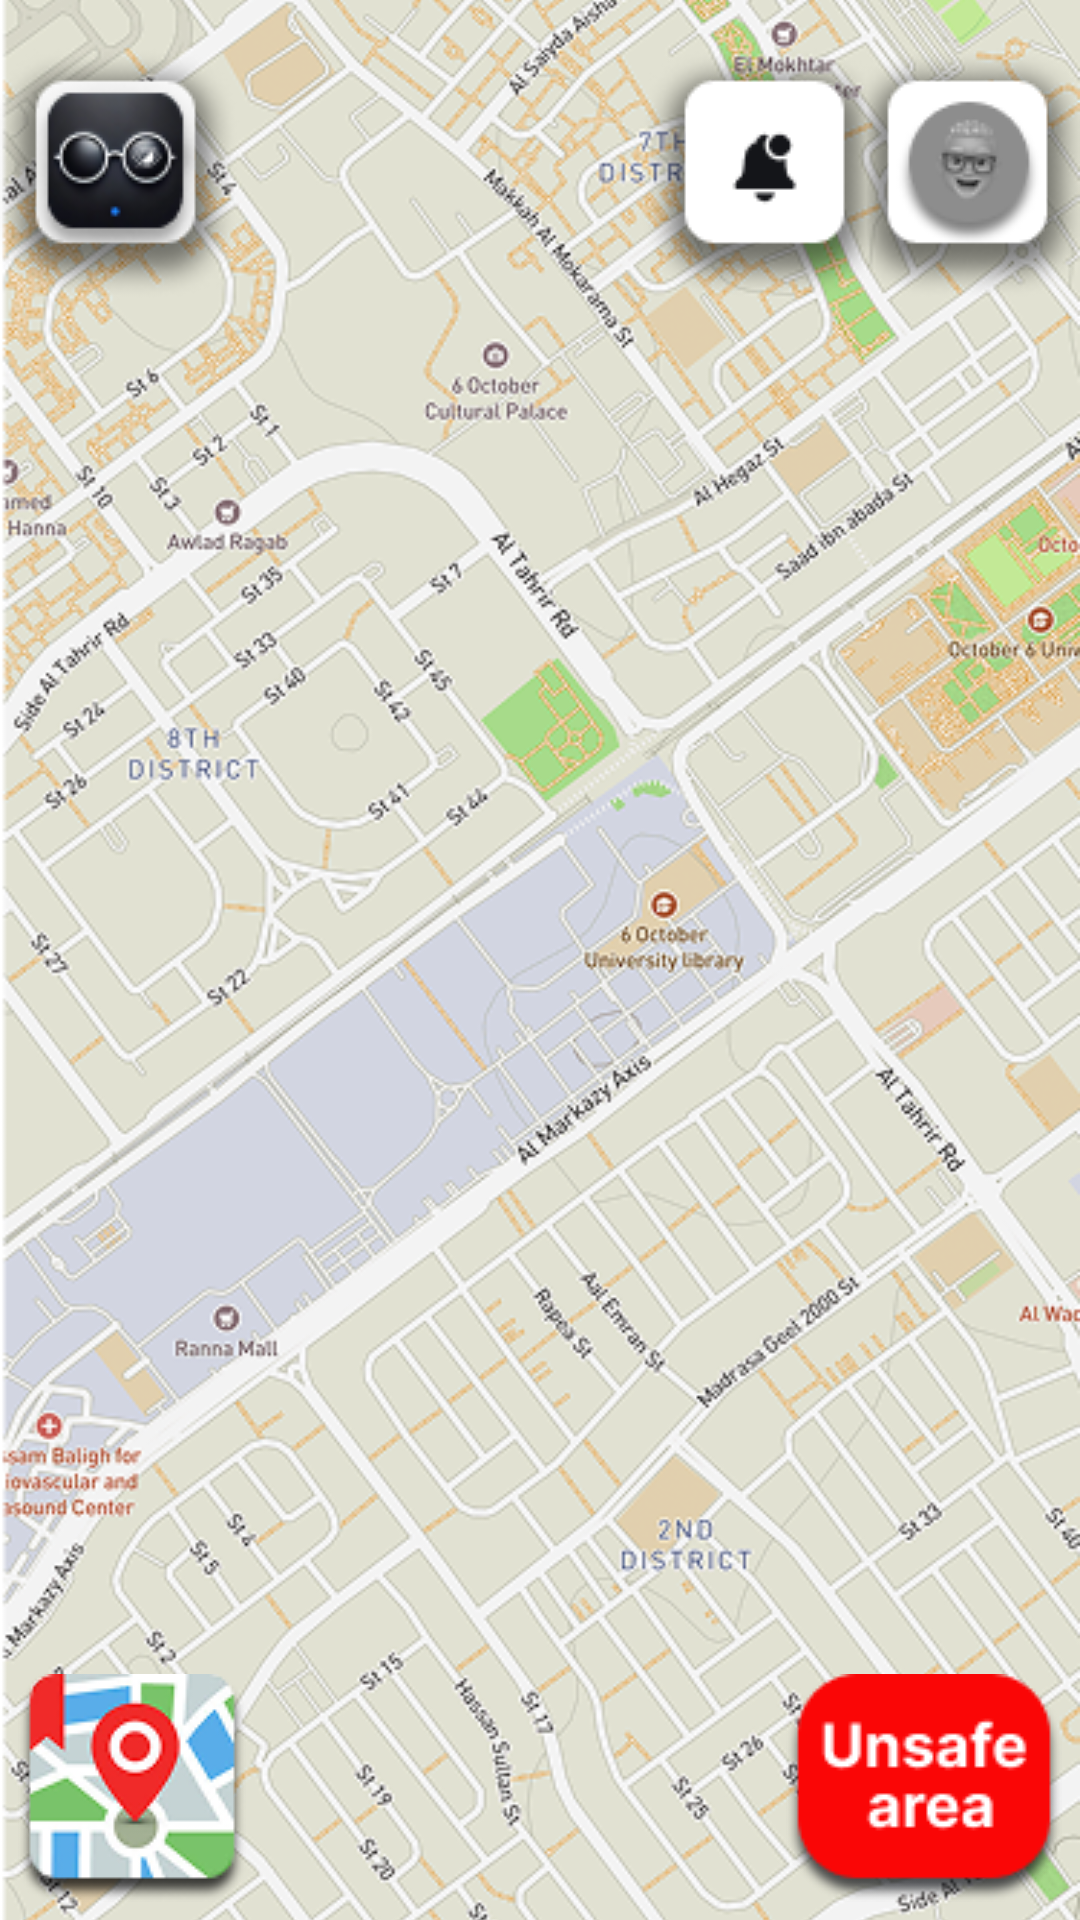

Icon click points for this 1080 x 1920 phone screenshot, format (x,y):
notification: (753,174)
places save: (132,1788)
profile: (973,174)
